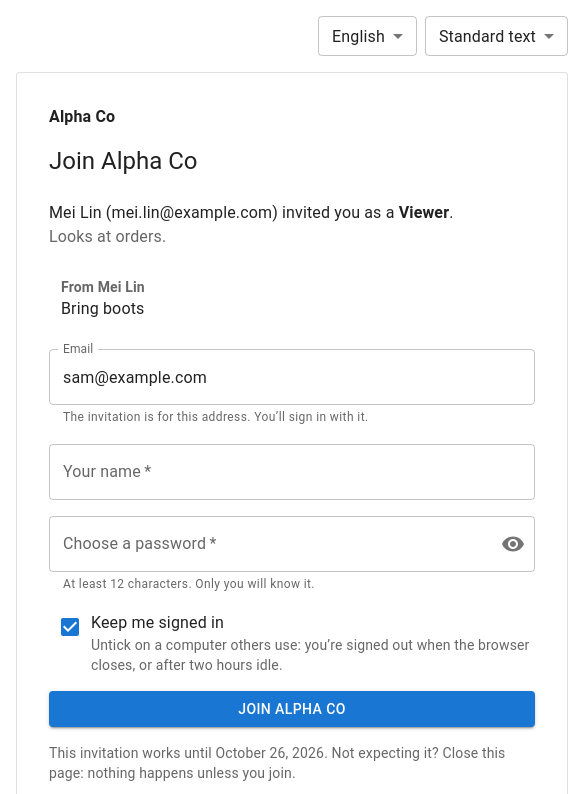
Test: InvitationPage (ADR-077) › reads an ended link as ended, by its code
In the field labelled "Your name": (292, 472) [49,444,535,500], type "Sam"
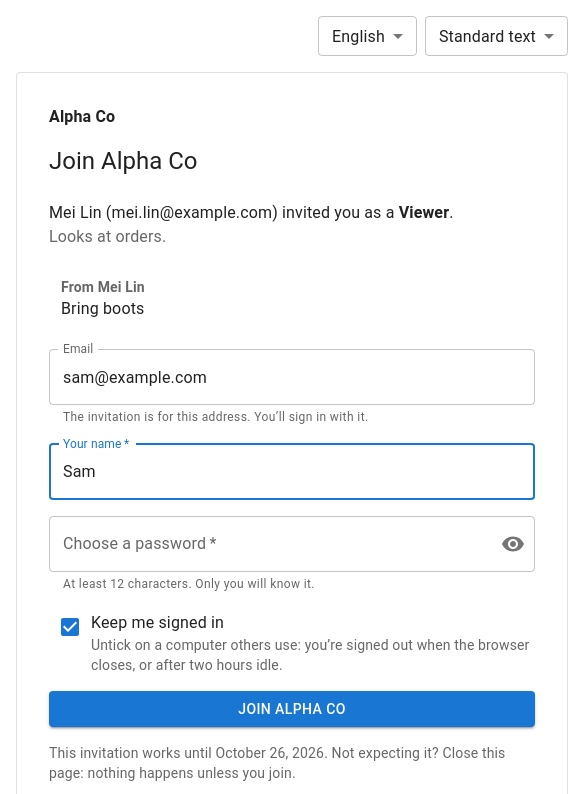
In the password field labelled "Choose a password *": (267, 544) [49,516,485,572], type "a-password-of-mine"
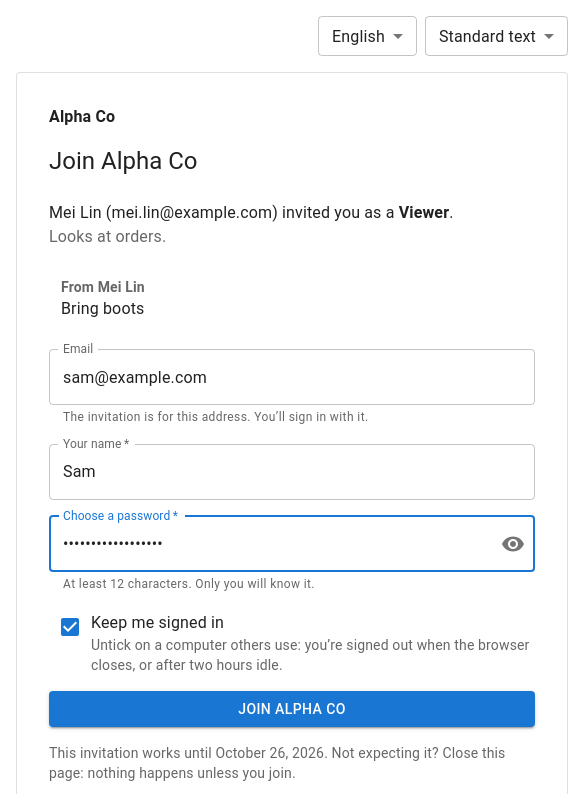
Click the button "Join Alpha Co": (292, 709) [49,691,535,727]
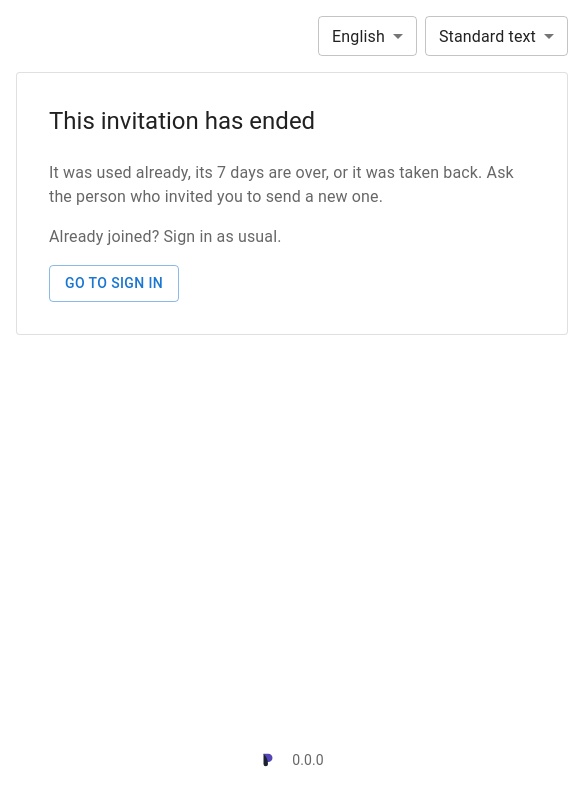
Expected: the heading "This invitation has ended" is shown, [49,107,315,135]
